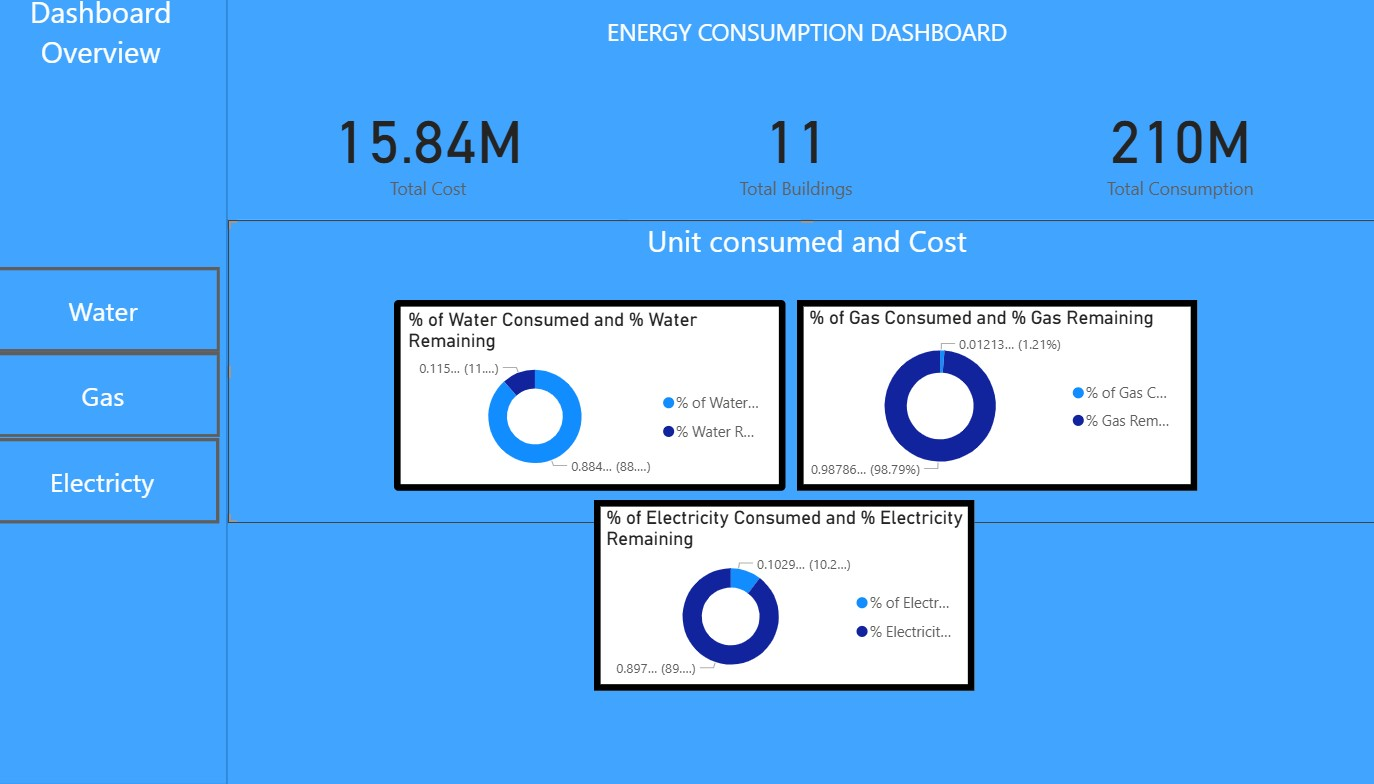

Layout of this report page (visuals, bound fields, positions):
{"tool":"powerbi","page":{"name":"Overview","canvas":[1280,720],"ordinal":0},"visuals":[{"type":"textbox","box":[230,0,1050,72.9],"z":0},{"type":"shape","box":[230,207.5,1050,275],"z":1000},{"type":"card","fields":{"Values":["Dedicated Measures.Total Cost"]},"box":[230.3,72.5,362.7,135.1],"z":2000},{"type":"card","fields":{"Values":["Dedicated Measures.Total Buildings"]},"box":[584,72.5,322.8,135.1],"z":3000},{"type":"card","fields":{"Values":["Dedicated Measures.Total Consumption"]},"box":[906.8,72.5,373.6,135.1],"z":4000},{"type":"donutChart","fields":{"Y":["Dedicated Measures.% of Water Consumed","Dedicated Measures.% Water Remaining"]},"box":[380.5,280.1,354.6,173.3],"z":5000},{"type":"donutChart","fields":{"Y":["Dedicated Measures.% of Gas Consumed","Dedicated Measures.% Gas Remaining"]},"box":[746.5,280.1,362.7,173.3],"z":7000},{"type":"shape","box":[0,0,230,720],"z":8000},{"type":"actionButton","box":[10.5,249.9,212.3,77.4],"z":9000},{"type":"actionButton","box":[10,405,212.5,77.5],"z":10000},{"type":"actionButton","box":[10.5,327.3,212.3,77.4],"z":11000},{"type":"textbox","box":[230,482.5,1050,237.5],"z":12000},{"type":"donutChart","fields":{"Y":["Dedicated Measures.% of Electricity Consumed","Dedicated Measures.% Electricity Remaining"]},"box":[561.9,461.5,344.9,173.3],"z":12500}]}

Visuals, with their boxes in screenshot pixels (x1, y1, x2, y2), scaled from the page's 1280x720 canvas onto the 1374x784 screenshot:
textbox: 247:0:1373:79
shape: 247:226:1373:525
card - Dedicated Measures.Total Cost: 247:79:637:226
card - Dedicated Measures.Total Buildings: 627:79:973:226
card - Dedicated Measures.Total Consumption: 973:79:1373:226
donutChart - Dedicated Measures.% of Water Consumed x Dedicated Measures.% Water Remaining: 408:305:789:494
donutChart - Dedicated Measures.% of Gas Consumed x Dedicated Measures.% Gas Remaining: 801:305:1191:494
shape: 0:0:247:783
actionButton: 11:272:239:356
actionButton: 11:441:239:525
actionButton: 11:356:239:441
textbox: 247:525:1373:783
donutChart - Dedicated Measures.% of Electricity Consumed x Dedicated Measures.% Electricity Remaining: 603:503:973:691
